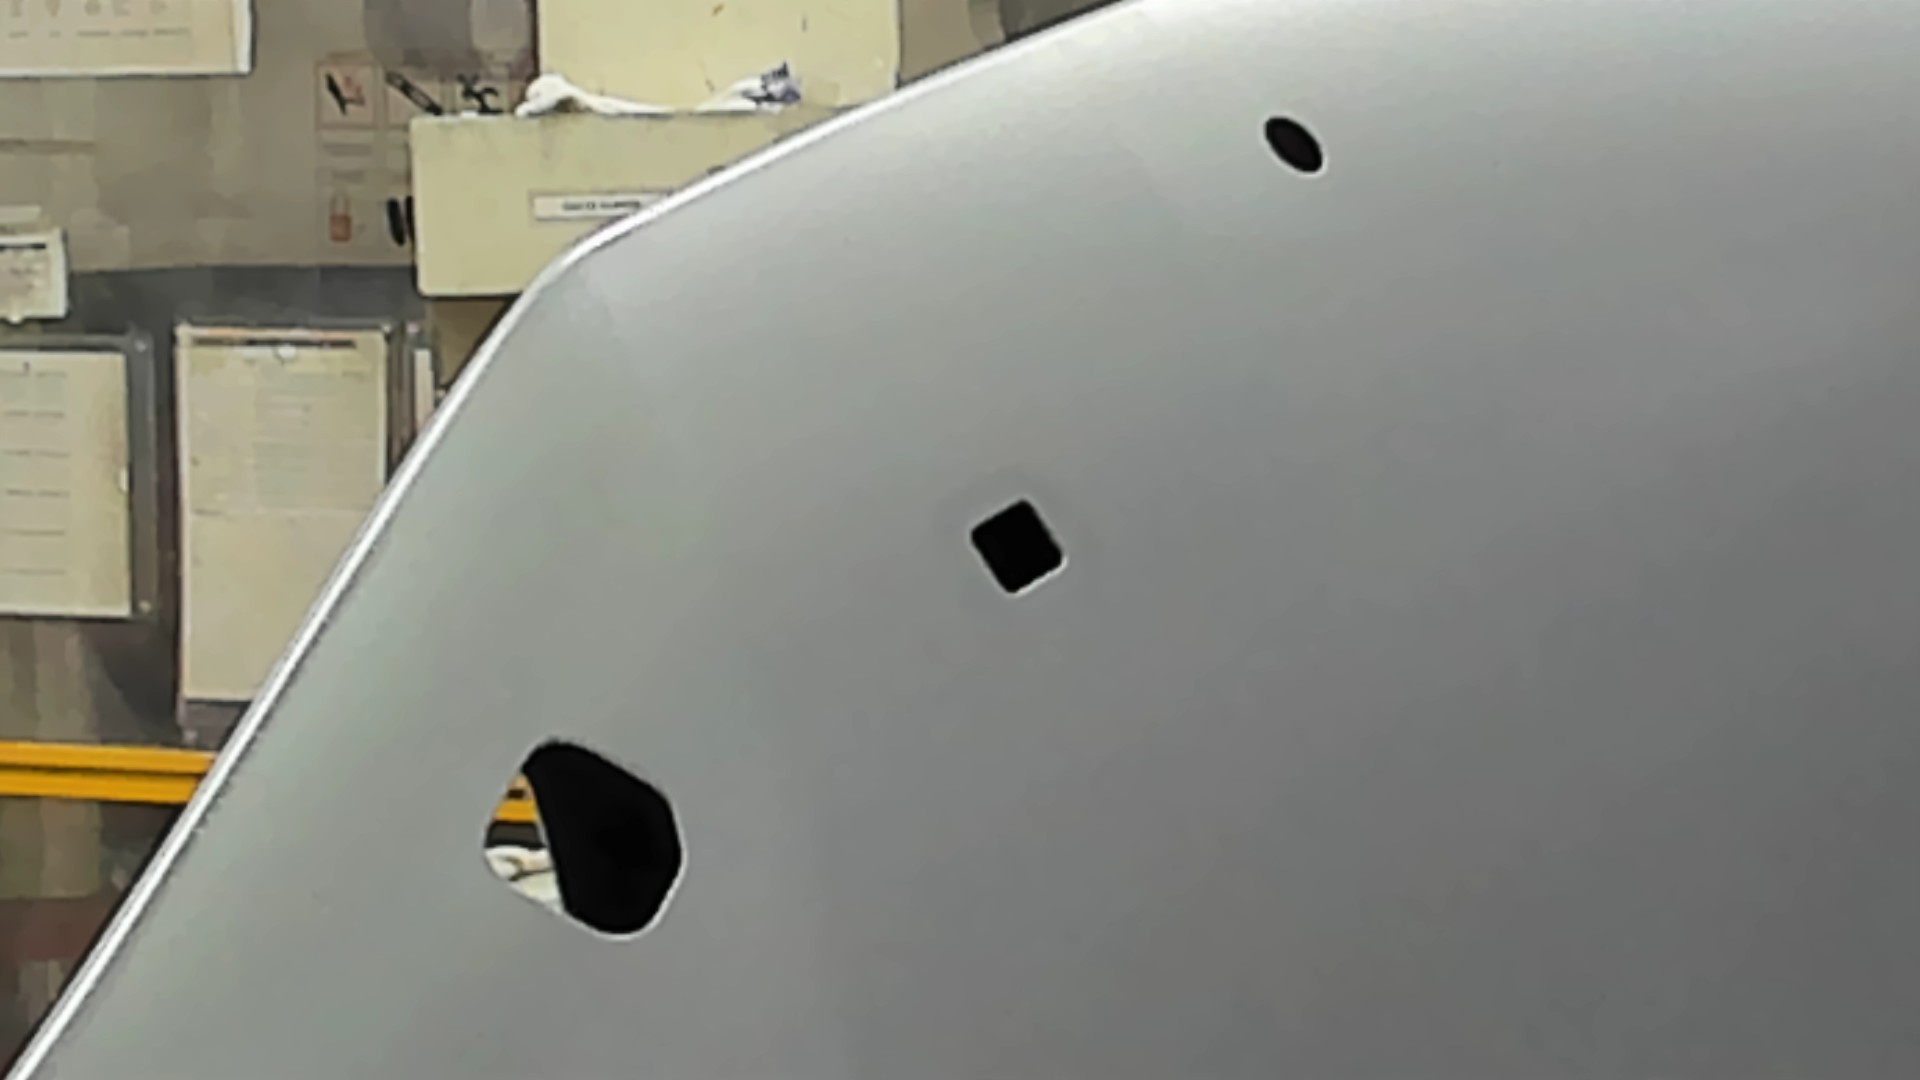chico: (1259, 108, 1329, 181)
grande: (477, 733, 692, 945)
mediano: (960, 492, 1069, 605)
